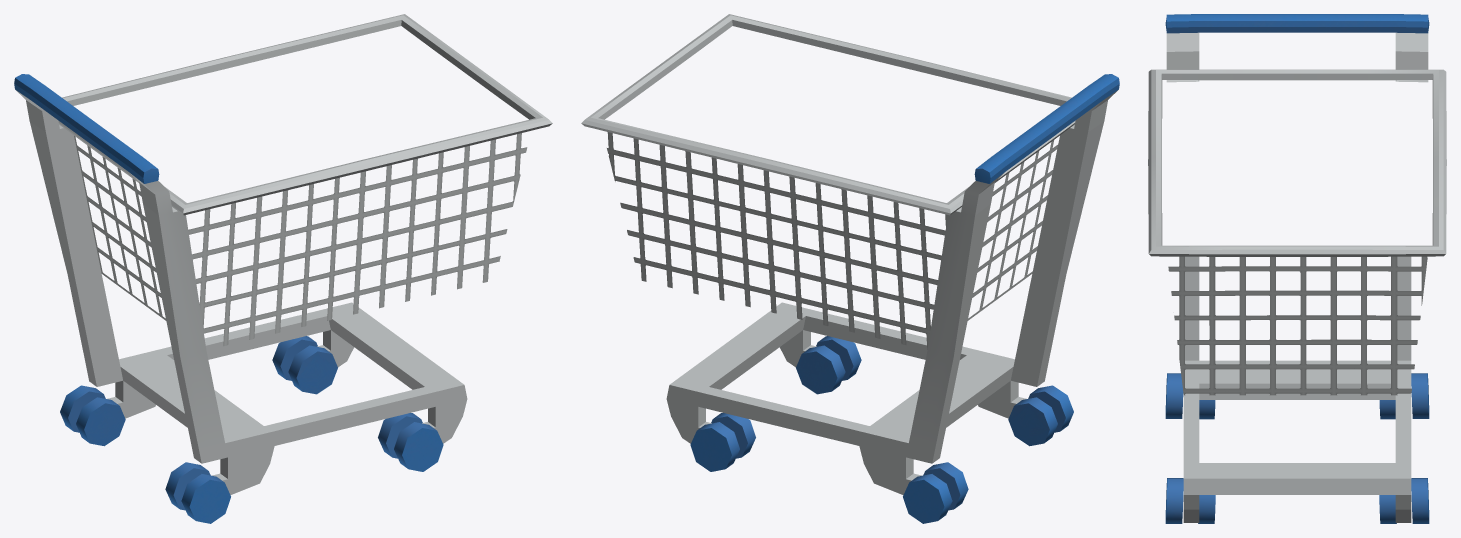
Rendered from Cart.glb.
3 views of the same model, side by side, from view 1: azimuth 30°, elevation 25°; view 2: azimuth 150°, elevation 25°; view 3: azimuth 270°, elevation 25° (orthographic).
Visible parts, largest first — view 1: Box001; view 2: Box001; view 3: Box001.
Part boxes in pixels (bbox=[...]): Box001: bbox=[14, 14, 552, 523]; Box001: bbox=[581, 14, 1119, 523]; Box001: bbox=[1148, 14, 1446, 523].
Size of the model in its own units: 45.09 by 39.8 by 28.81.
3 materials, 3 textured.
